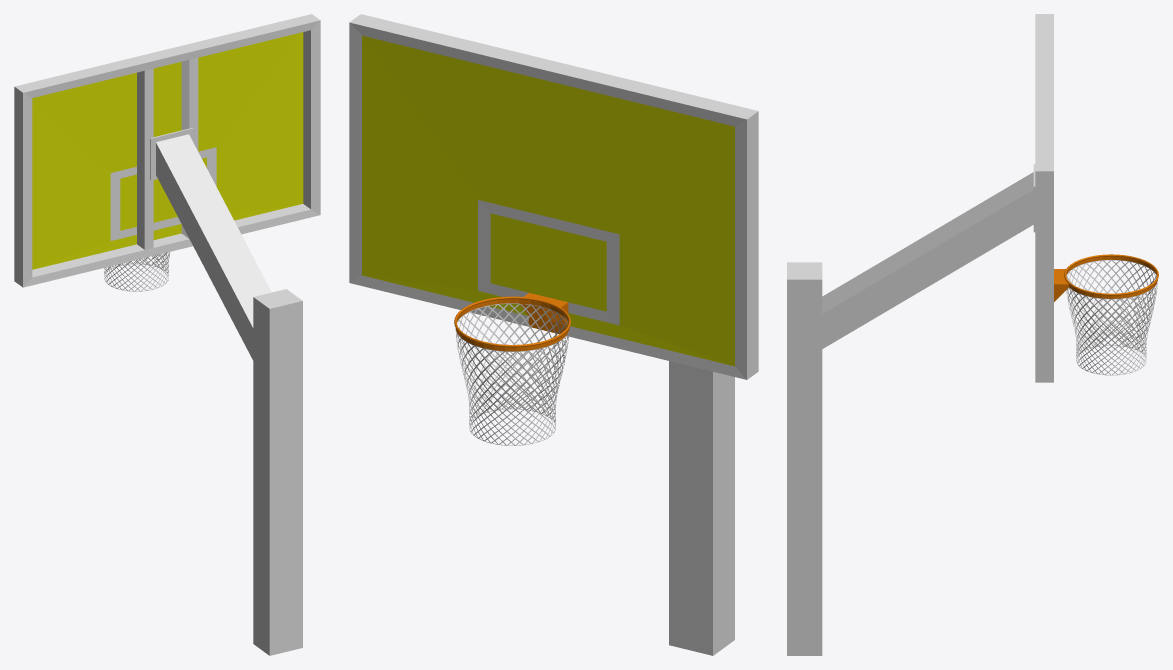
Rendered from Canasta2.fbx.
The picture shows the model from 3 angles, left to right: view 1: azimuth 30°, elevation 25°; view 2: azimuth 150°, elevation 25°; view 3: azimuth 270°, elevation 25°; orthographic projection. The views are drawn at different scales.
Parts seen in each view (by area): view 1: BézierCircle; view 2: BézierCircle; view 3: BézierCircle.
Boxes of the visible parts, x1,y1,x2,y2 form: BézierCircle: (14, 14, 320, 655); BézierCircle: (349, 14, 758, 655); BézierCircle: (787, 14, 1158, 655).
Bounding box in the file's own units: 300 × 493 × 300.
